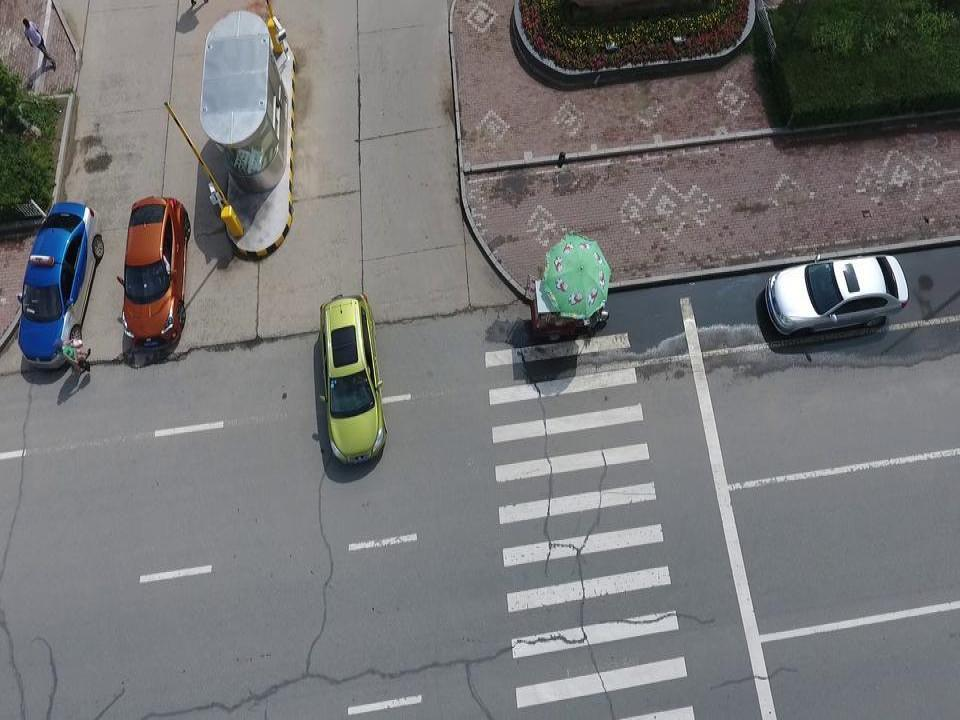car: (16, 199, 104, 368), (763, 250, 918, 338), (315, 290, 388, 466), (115, 194, 192, 350)
